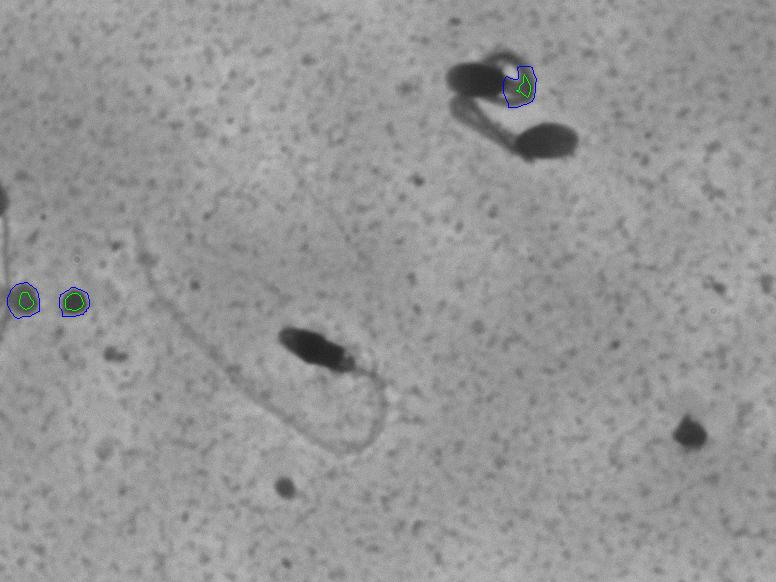Abnormal: (116, 196, 423, 481), (422, 28, 590, 189)
